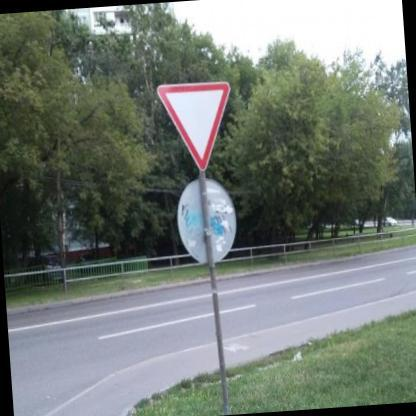road_sign: (156, 82, 231, 174)
